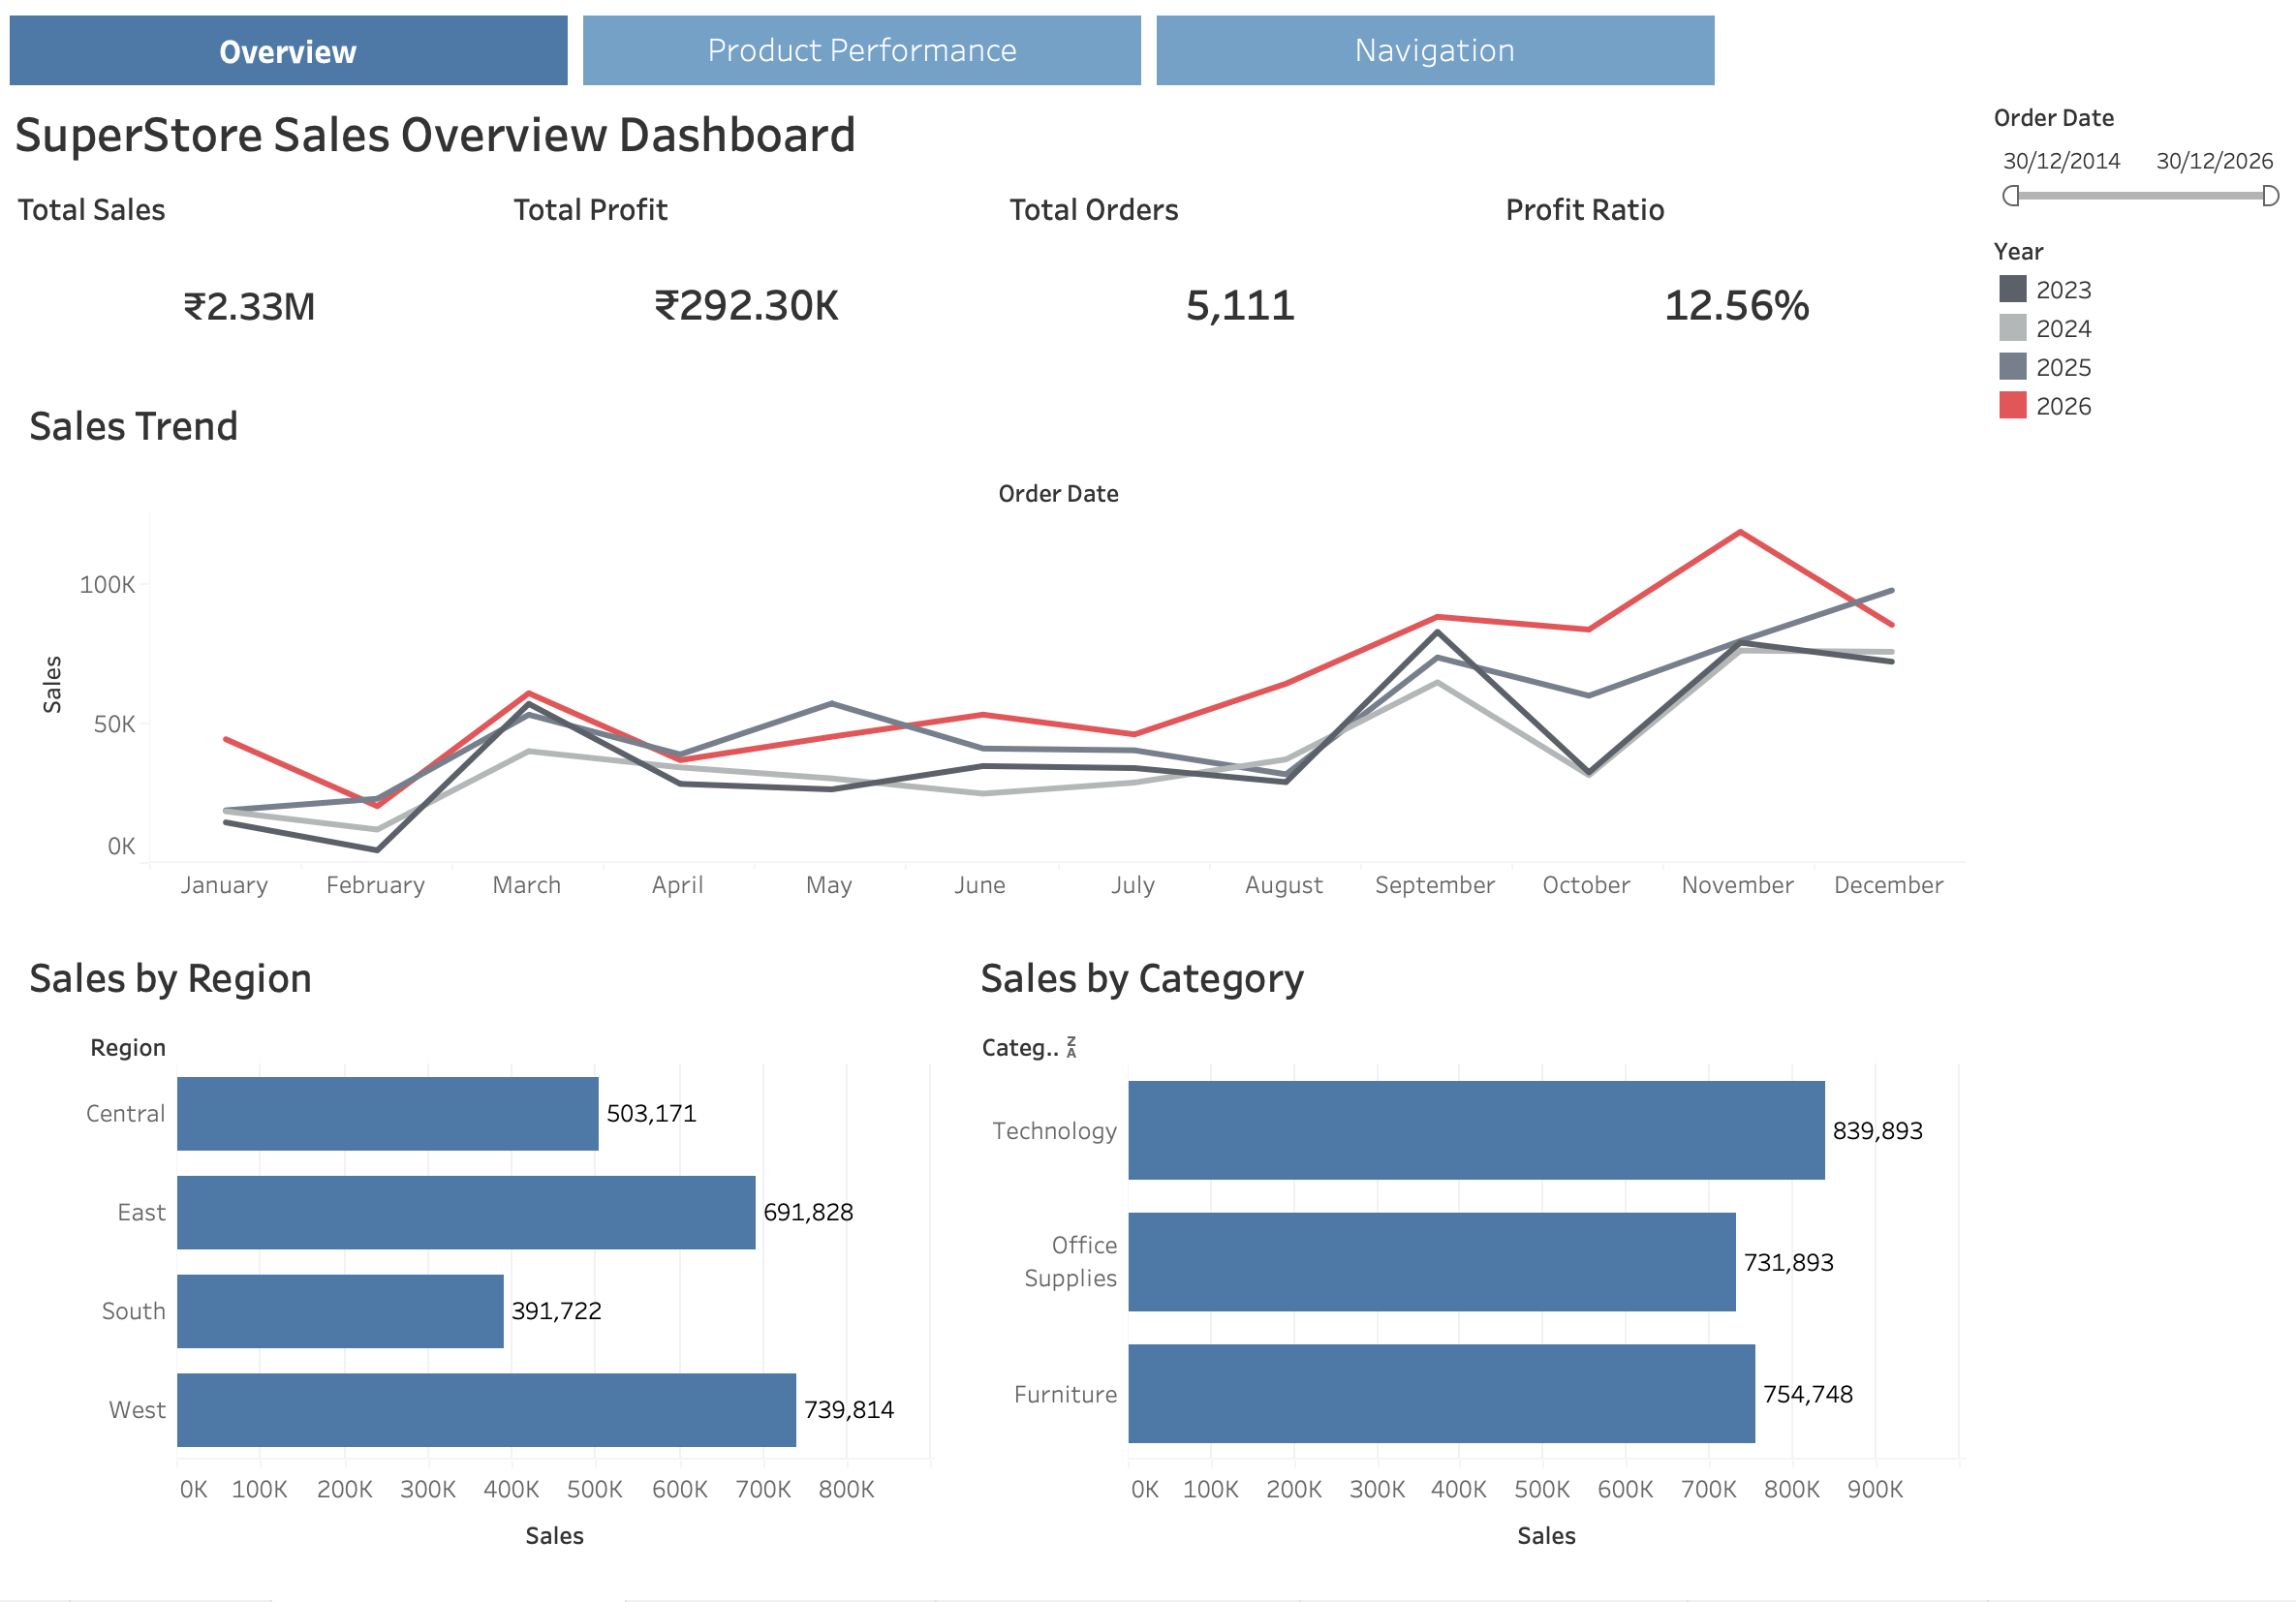

Layout of this report page (visuals, bound fields, positions):
{"tool":"tableau","page":{"name":"Sales Overview Dashboard","canvas":[1000,1000],"units":"permille","ordinal":2},"visuals":[{"type":"dashboard-object","box":[6.7,10.4,246.7,53.3]},{"type":"dashboard-object","box":[253.3,10.4,246.7,53.3]},{"type":"dashboard-object","box":[500,10.4,246.7,53.3]},{"type":"title","box":[6.7,63.7,853.3,53.3]},{"type":"filter","title":"Sales Trend","param":"[federated.0lyn5p717q66wp136qmw91pvss06].[none:Order Date:qk]","box":[860,63.7,133.3,89.7]},{"type":"worksheet","title":"Total Sales","mark":"Automatic","box":[6.7,117,213.3,121.5]},{"type":"worksheet","title":"Total Profit","mark":"Automatic","box":[219.9,117,213.4,121.5]},{"type":"worksheet","title":"Total Orders","mark":"Automatic","box":[433.3,117,213.3,121.5]},{"type":"worksheet","title":"Profit Ratio","mark":"Automatic","box":[646.6,117,213.4,121.5]},{"type":"legend","title":"Sales Trend","param":"[federated.0lyn5p717q66wp136qmw91pvss06].[yr:Order Date:ok]","box":[860,153.4,133.3,137.8]},{"type":"worksheet","title":"Sales Trend","mark":"Line","rows":["Sales"],"cols":["Order Date"],"box":[6.7,238.5,853.3,341.5]},{"type":"worksheet","title":"Sales by Region","mark":"Automatic","rows":["Region"],"cols":["Sales"],"box":[6.7,580,409.2,409.6]},{"type":"worksheet","title":"Sales by Category","mark":"Automatic","rows":["Category"],"cols":["Sales"],"box":[415.8,580,444.2,409.6]}]}

Visuals, with their boxes on the dashboard's canvas, which has no fixed pixel size, in thousandths of its width and height (x1, y1, x2, y2). These are canvas units, not pixel positions in the 2296x1602 screenshot, which may show the page scaled, cropped or inside an application window:
dashboard-object: left=7, top=10, right=253, bottom=64
dashboard-object: left=253, top=10, right=500, bottom=64
dashboard-object: left=500, top=10, right=747, bottom=64
title: left=7, top=64, right=860, bottom=117
"Sales Trend" filter: left=860, top=64, right=993, bottom=153
"Total Sales" worksheet: left=7, top=117, right=220, bottom=238
"Total Profit" worksheet: left=220, top=117, right=433, bottom=238
"Total Orders" worksheet: left=433, top=117, right=647, bottom=238
"Profit Ratio" worksheet: left=647, top=117, right=860, bottom=238
"Sales Trend" legend: left=860, top=153, right=993, bottom=291
"Sales Trend" worksheet (Line marks): left=7, top=238, right=860, bottom=580
"Sales by Region" worksheet: left=7, top=580, right=416, bottom=990
"Sales by Category" worksheet: left=416, top=580, right=860, bottom=990
